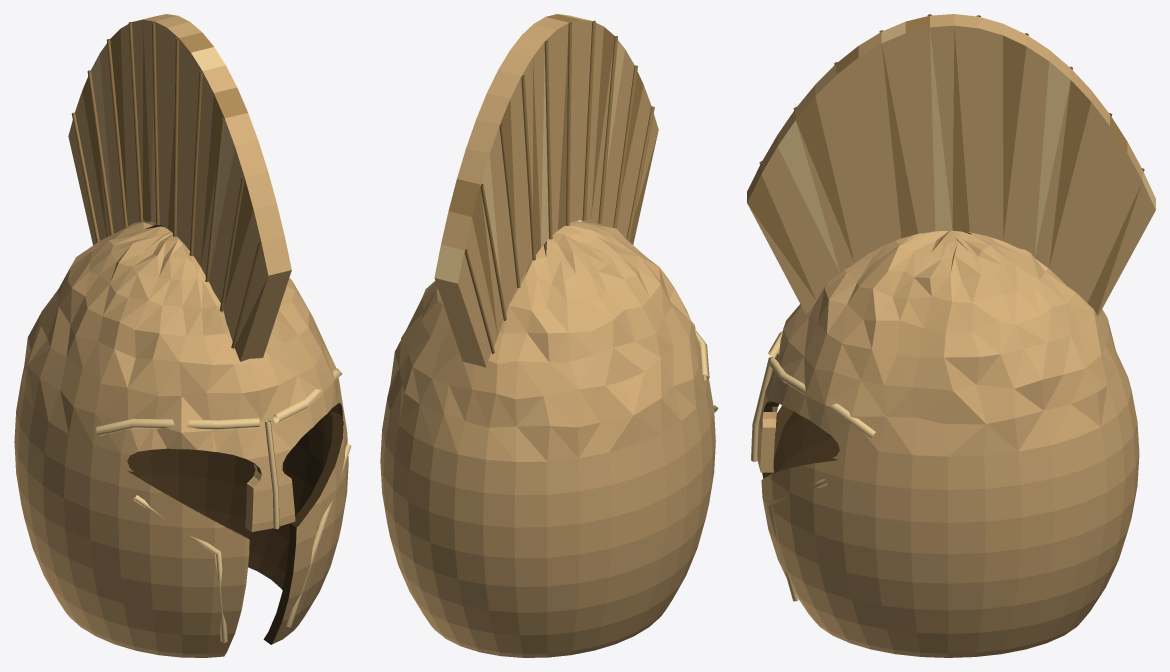
File: ceremonial.glb
3 views of the same model, side by side, from view 1: azimuth 30°, elevation 25°; view 2: azimuth 150°, elevation 25°; view 3: azimuth 270°, elevation 25° (orthographic). The views are drawn at different scales.
Visible parts, largest first — view 1: Hollow helmet shell.009, Radial fan crest.009, Sculpted brow.018, Crest vane.095, Crest vane.096, Crest vane.094, Crest vane.097, Crest vane.093, Nasal spine.009, Cheek ridge.018, Crest vane.098, Crest vane.092 (+4 smaller); view 2: Hollow helmet shell.009, Radial fan crest.009, Crest vane.093, Crest vane.094, Crest vane.095, Crest vane.092, Crest vane.096, Crest vane.091, Crest vane.097, Crest vane.090, Crest vane.098; view 3: Hollow helmet shell.009, Radial fan crest.009, Sculpted brow.019, Nasal spine.009.
Boxes of the visible parts, x1=… form: Hollow helmet shell.009: x1=14, y1=221, x2=348, y2=657; Radial fan crest.009: x1=68, y1=14, x2=291, y2=361; Sculpted brow.018: x1=96, y1=418, x2=259, y2=435; Crest vane.095: x1=151, y1=21, x2=159, y2=225; Crest vane.096: x1=128, y1=22, x2=143, y2=222; Crest vane.094: x1=173, y1=37, x2=179, y2=236; Crest vane.097: x1=106, y1=39, x2=127, y2=226; Crest vane.093: x1=189, y1=70, x2=202, y2=256; Nasal spine.009: x1=265, y1=420, x2=279, y2=529; Cheek ridge.018: x1=133, y1=495, x2=227, y2=643; Crest vane.098: x1=87, y1=70, x2=113, y2=235; Crest vane.092: x1=205, y1=117, x2=224, y2=282; Hollow helmet shell.009: x1=380, y1=221, x2=715, y2=657; Radial fan crest.009: x1=434, y1=14, x2=658, y2=367; Crest vane.093: x1=582, y1=20, x2=595, y2=220; Crest vane.094: x1=566, y1=22, x2=572, y2=225; Crest vane.095: x1=544, y1=40, x2=552, y2=239; Crest vane.092: x1=598, y1=36, x2=617, y2=223; Crest vane.096: x1=521, y1=75, x2=535, y2=260; Crest vane.091: x1=613, y1=65, x2=637, y2=228; Crest vane.097: x1=499, y1=124, x2=520, y2=287; Crest vane.090: x1=626, y1=106, x2=654, y2=241; Crest vane.098: x1=480, y1=183, x2=506, y2=320; Hollow helmet shell.009: x1=757, y1=230, x2=1139, y2=657; Radial fan crest.009: x1=747, y1=14, x2=1155, y2=316; Sculpted brow.019: x1=768, y1=357, x2=876, y2=438; Nasal spine.009: x1=751, y1=356, x2=775, y2=461.
Size of the model in its own units: 1.3 by 2.58 by 1.63.
